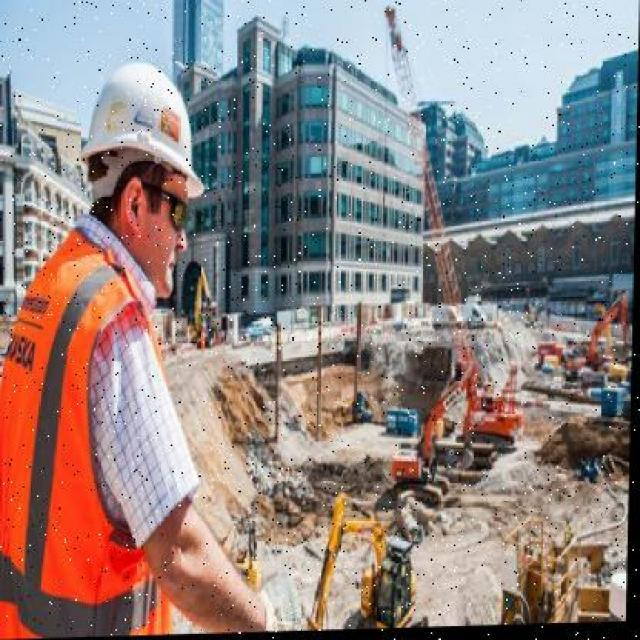helmet: (77, 54, 209, 208)
vest: (0, 232, 194, 636)
